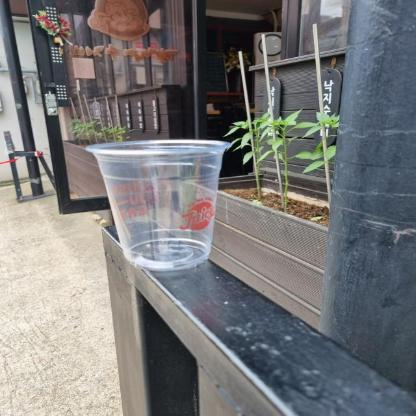Plastic Cup: (85, 140, 231, 270)
